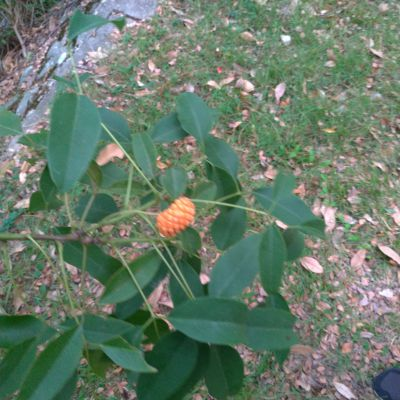eggs: (151, 195, 202, 239)
